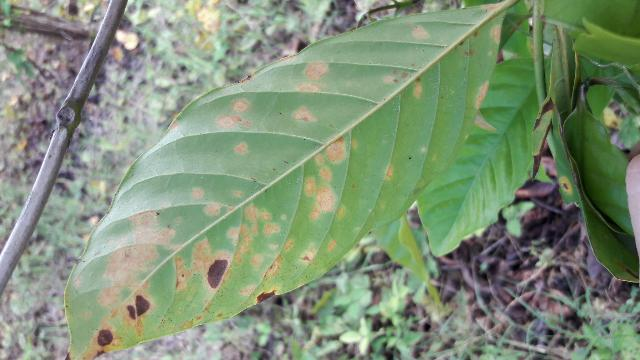rust_level_3: (64, 2, 516, 360)
